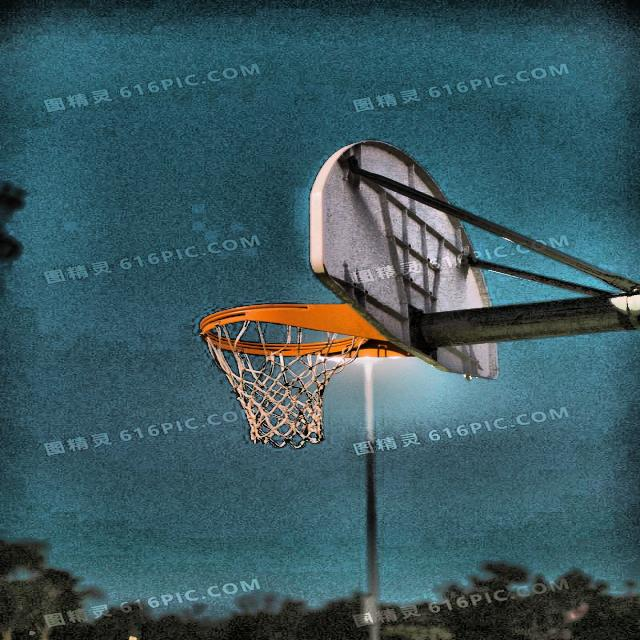rim: (199, 303, 366, 450)
